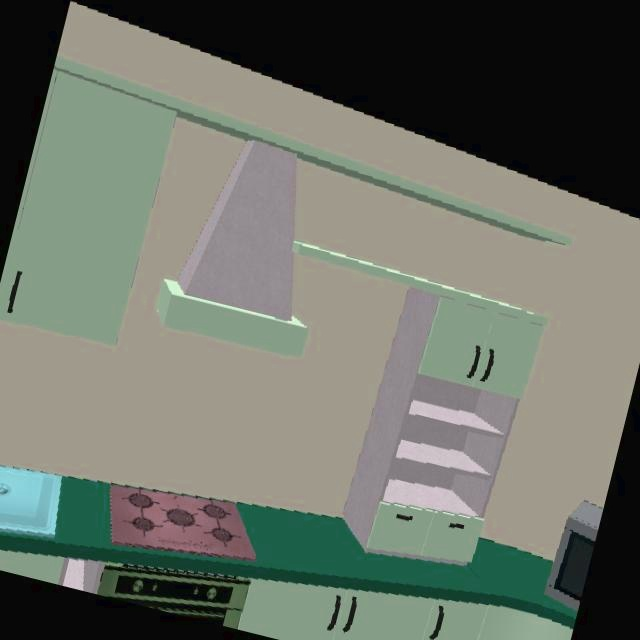cabinet: (343, 286, 547, 566), (0, 68, 178, 347), (236, 581, 571, 640), (0, 552, 104, 594)
countertop: (0, 476, 577, 629)
microwave: (546, 503, 603, 607)
oven: (74, 564, 249, 629)
sink: (0, 467, 66, 543)
stove: (109, 484, 255, 561)
